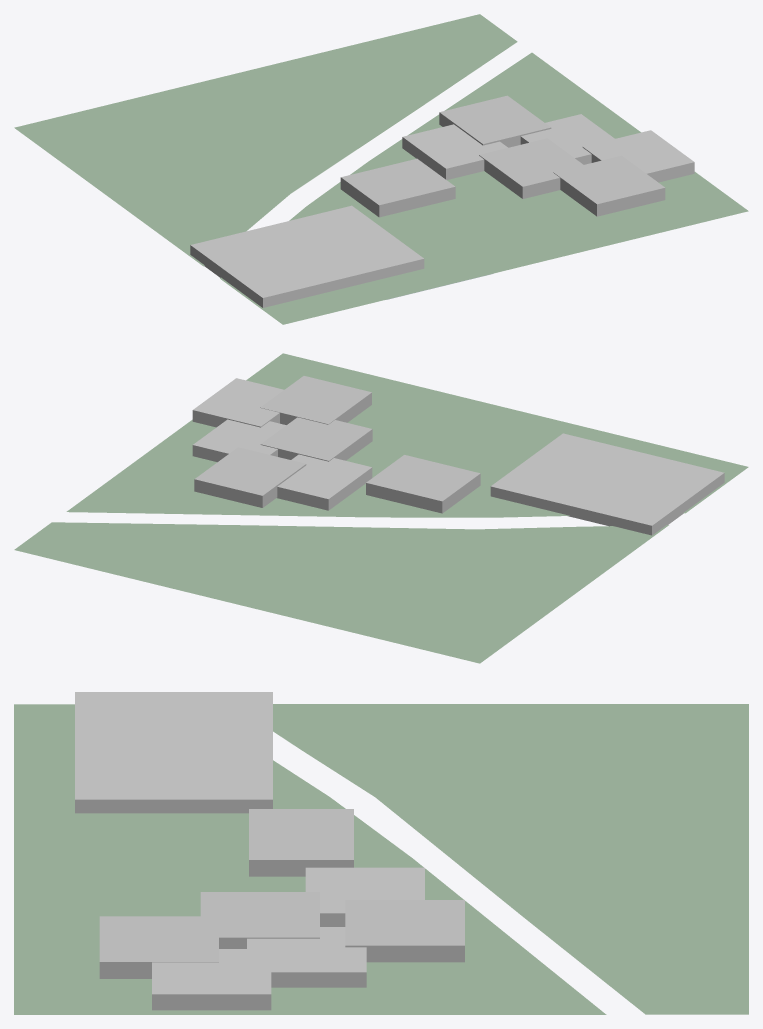
Rendered from 129_77_mid.glb.
The picture shows the model from 3 angles, top to bottom: view 1: azimuth 30°, elevation 25°; view 2: azimuth 150°, elevation 25°; view 3: azimuth 270°, elevation 25°; orthographic projection. The views are drawn at different scales.
Bounding box in the file's own units: 500 × 14.8 × 500.
